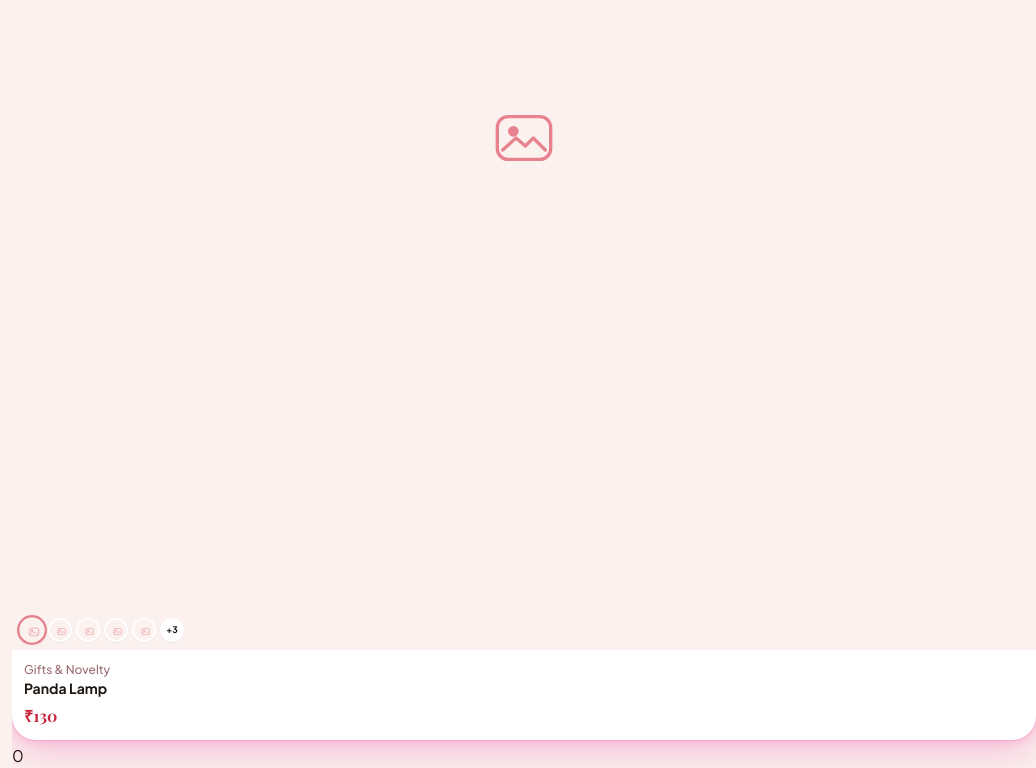
ProductCard — color swatches › "+N" overflow popover › opens a popover listing the hidden colors instead of navigating (failure case: previously this was a plain span, so any tap on it just opened the product page)
(page scrolled)
Click the button named "Show 3 more colors" at (172, 630), box 160,618 -> 184,642
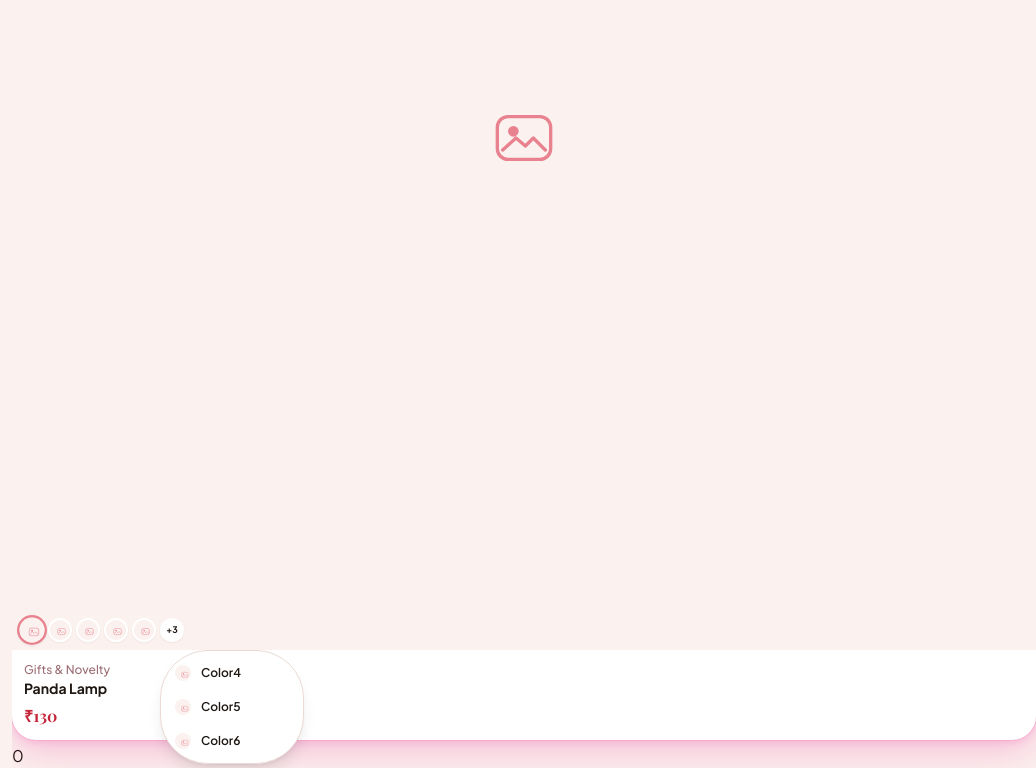
Now the menu is shown, box 160,650 -> 304,764
Now the menu item "Color4" is shown, box 167,657 -> 297,689
Now the menu item "Color5" is shown, box 167,691 -> 297,723
